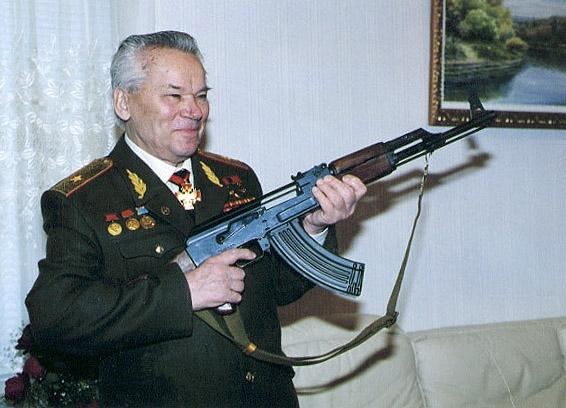larga: (168, 98, 498, 299)
